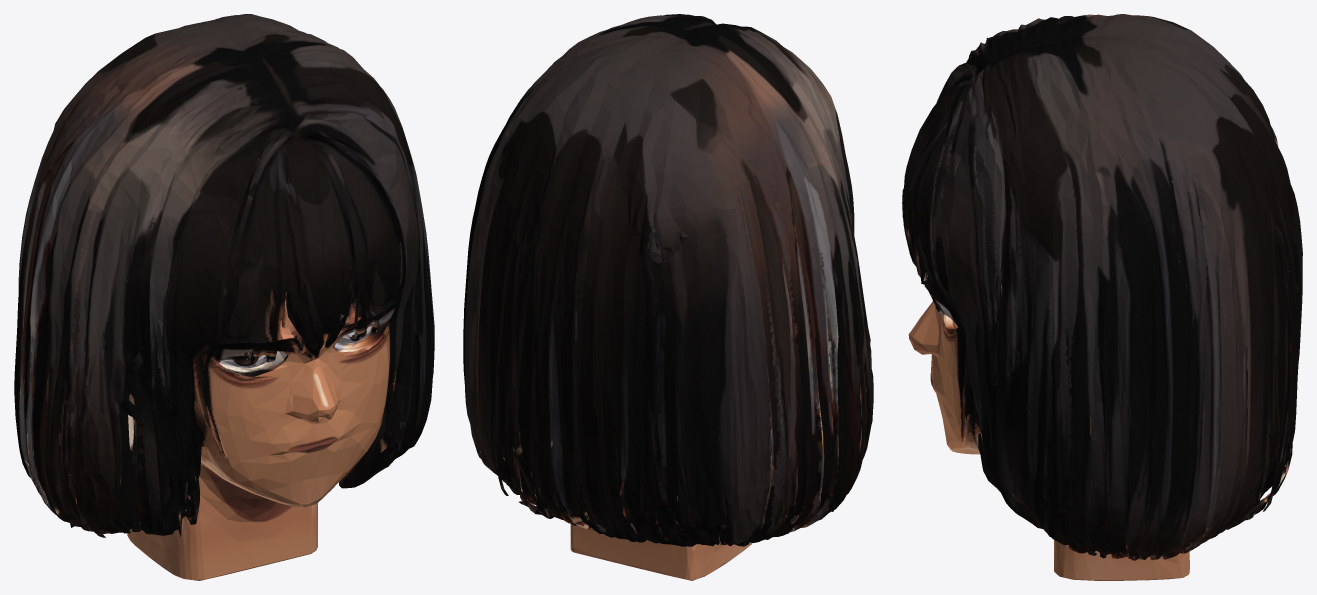
The model's file is side_adoru_repaired_atlas.glb.
The picture shows the model from 3 angles, left to right: view 1: azimuth 30°, elevation 25°; view 2: azimuth 150°, elevation 25°; view 3: azimuth 270°, elevation 25°; orthographic projection. The views are drawn at different scales.
Visible parts, largest first — view 1: temp_mesh.ply; view 2: temp_mesh.ply; view 3: temp_mesh.ply.
Boxes of the visible parts, left/top/right/bottom form: temp_mesh.ply: left=14, top=14, right=434, bottom=580; temp_mesh.ply: left=463, top=14, right=873, bottom=580; temp_mesh.ply: left=902, top=14, right=1302, bottom=580.
Size of the model in its own units: 1.55 by 1.97 by 1.4.
1 material, 1 textured.
